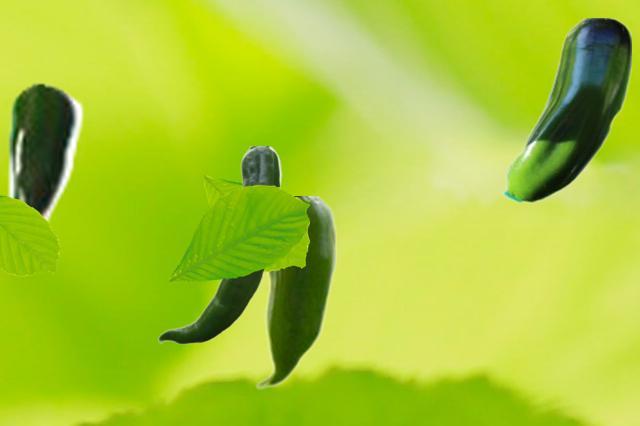green_chili: (157, 146, 281, 344), (500, 18, 630, 203), (254, 196, 335, 389), (0, 81, 84, 230)
